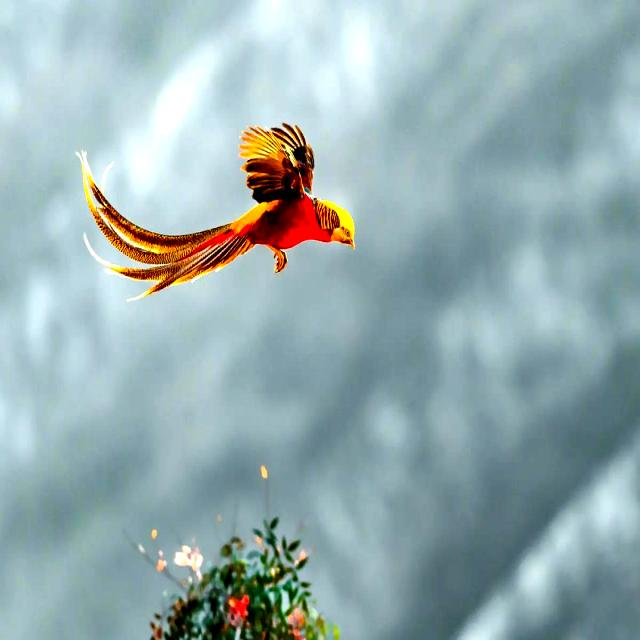Chrysolophus pictus feather: (76, 150, 252, 302)
